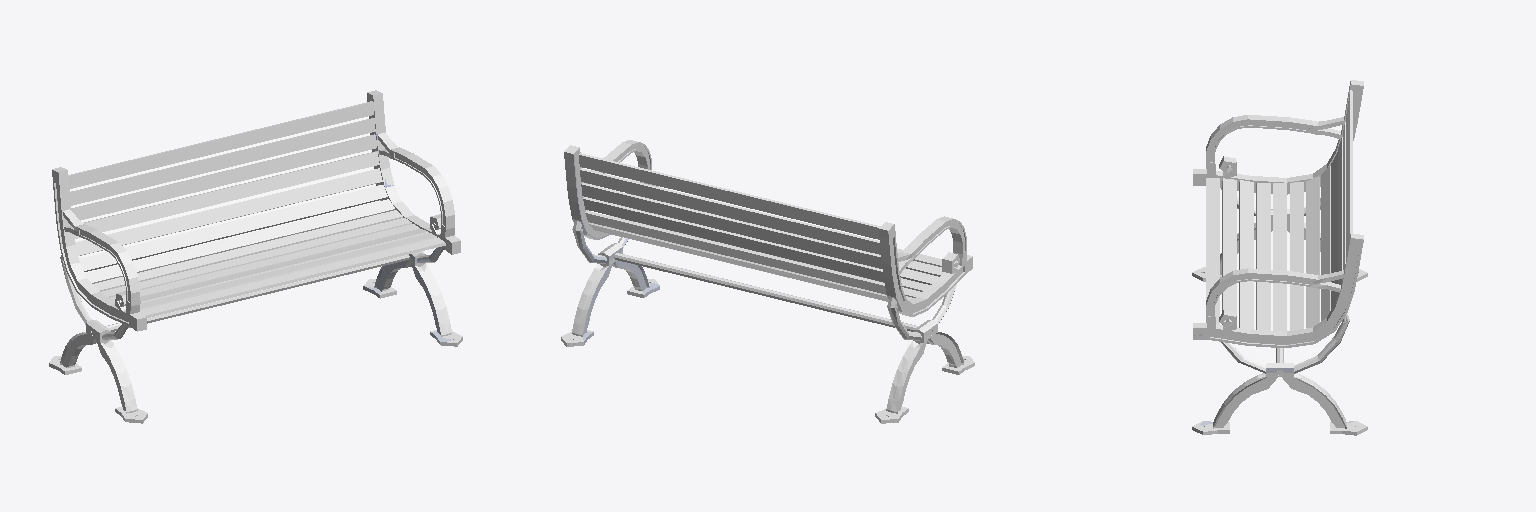
3 renders of one model, left to right at view 1: azimuth 30°, elevation 25°; view 2: azimuth 150°, elevation 25°; view 3: azimuth 270°, elevation 25°, orthographic.
Parts seen in each view (by area): view 1: Bench_LowRes; view 2: Bench_LowRes; view 3: Bench_LowRes.
Boxes of the visible parts, <box> form: Bench_LowRes: <box>49,90,462,423</box>; Bench_LowRes: <box>561,140,974,423</box>; Bench_LowRes: <box>1192,80,1367,435</box>.
Bounding box in the file's own units: 176 × 96.85 × 79.41.
1 materials, 1 textured.